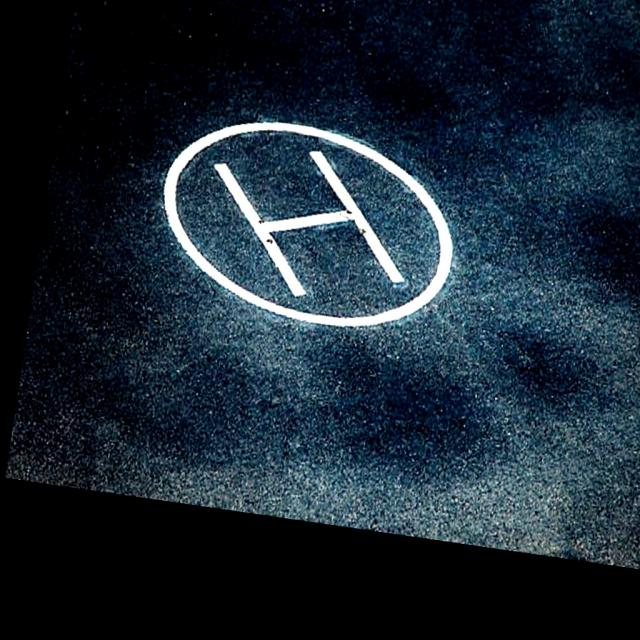helipad: (154, 110, 458, 334)
